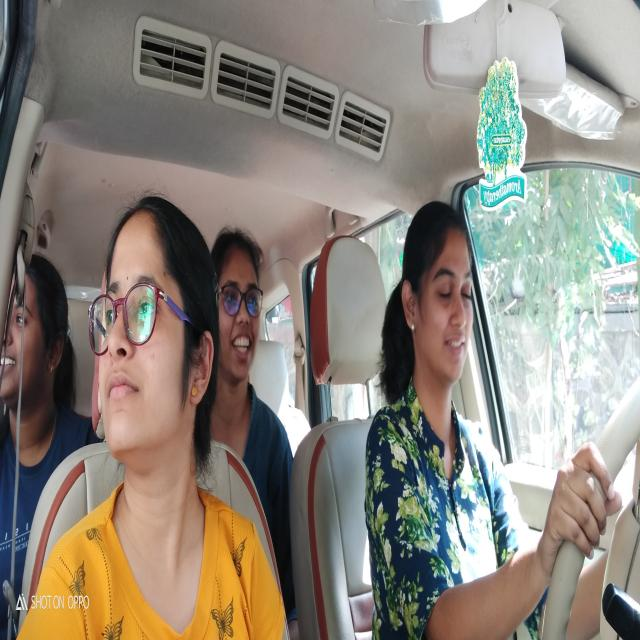drowsy: (402, 214, 477, 386)
person: (100, 220, 212, 452), (8, 296, 64, 410), (217, 237, 260, 375)
